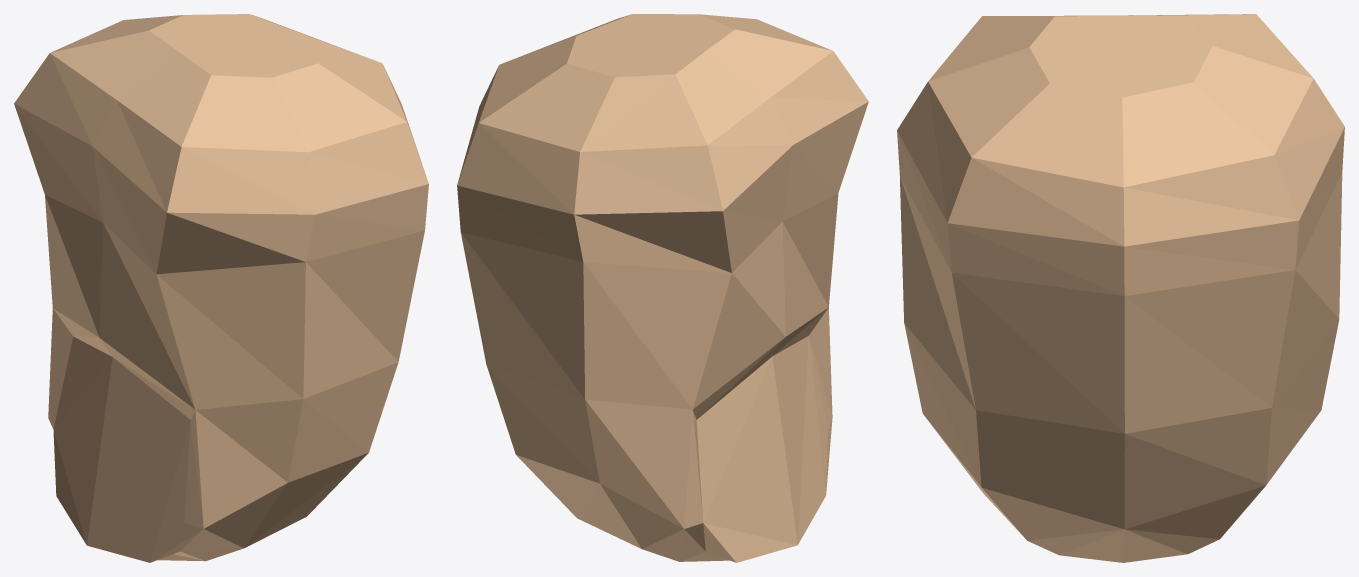
File: RFing32_mesh.dae
The picture shows the model from 3 angles, left to right: view 1: azimuth 30°, elevation 25°; view 2: azimuth 150°, elevation 25°; view 3: azimuth 270°, elevation 25°; orthographic projection. The views are drawn at different scales.
Visible parts, largest first — view 1: RFing32; view 2: RFing32; view 3: RFing32.
Boxes of the visible parts, x1=… form: RFing32: x1=14, y1=14, x2=428, y2=562; RFing32: x1=457, y1=14, x2=868, y2=562; RFing32: x1=897, y1=14, x2=1344, y2=562.
Bounding box in the file's own units: 0.0137 × 0.0206 × 0.0157.
